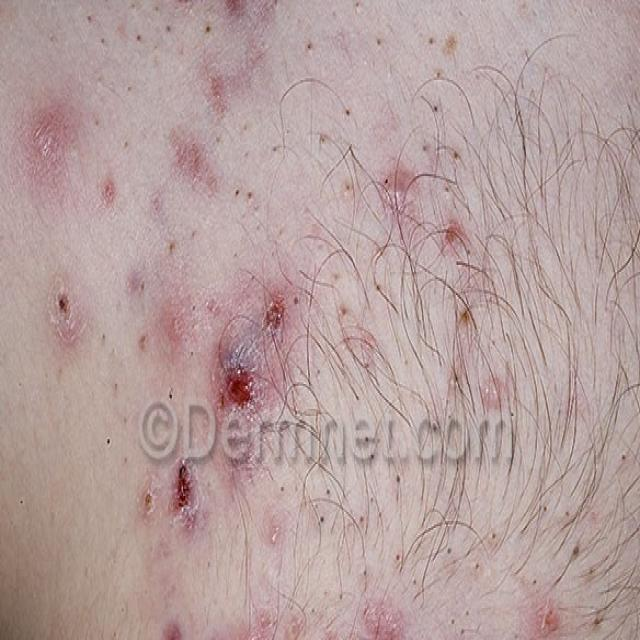Acne: (366, 118, 527, 356), (122, 244, 309, 409), (159, 3, 282, 225), (151, 569, 436, 640), (130, 442, 228, 542), (15, 95, 85, 209), (33, 260, 94, 356), (513, 574, 584, 640)
